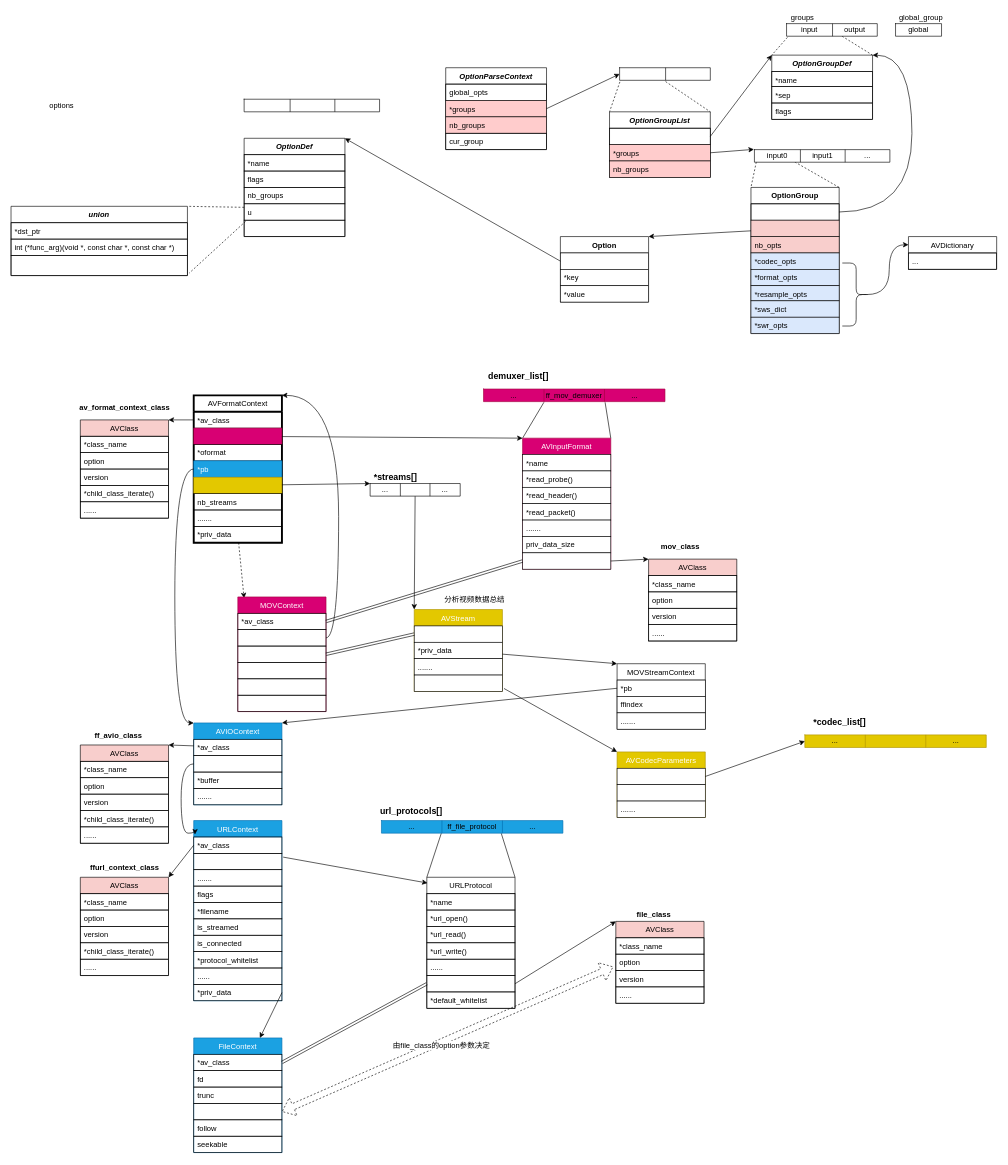
This 1008x1165 diagram has some shape labels left out. The centre of each missing label's shape, as x and y in pixels:
**streams: point 237,485
*argname: point 294,228
*codecpar: point 458,682
*fc: point 281,637
*group_def: point 794,211
*iformat: point 237,435
*opt: point 604,260
*opts: point 794,228
*priv_class: point 566,560
*priv_data_class: point 470,983
*prot: point 237,861
blocksize: point 237,1111
codec_id: point 660,776
group_def: point 659,136
index: point 458,633
off: point 98,265
trak_index: point 281,653
void *opaque: point 237,763
